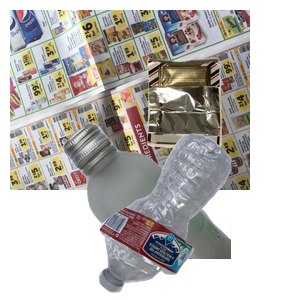glass: (60, 120, 300, 300)
paper: (10, 10, 250, 190)
plastic: (96, 131, 300, 300)
trash: (144, 55, 300, 197)
